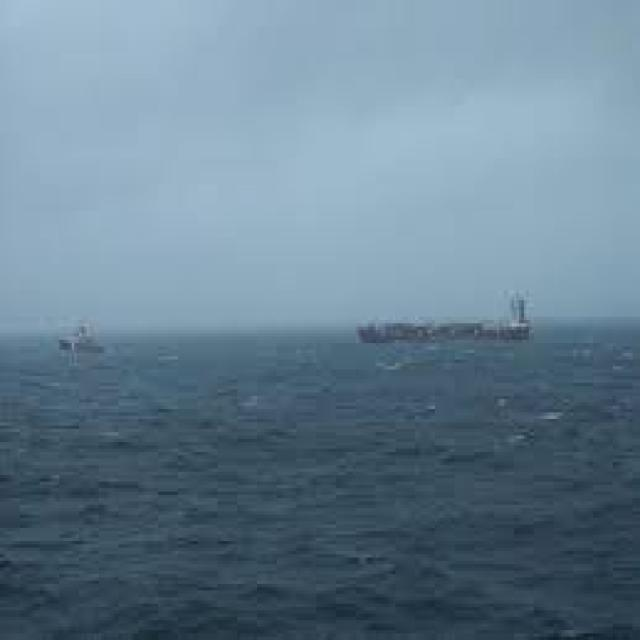cargoship: (356, 284, 532, 345)
houseboat: (57, 317, 102, 356)
